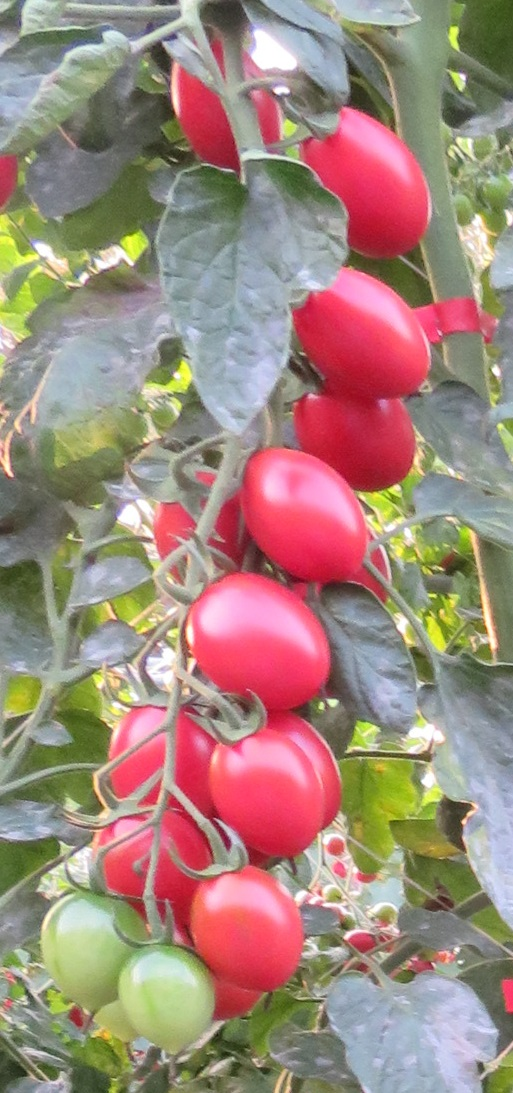green: (36, 888, 154, 1008), (115, 948, 222, 1062)
red: (304, 99, 441, 257), (182, 574, 336, 712), (295, 259, 442, 400), (239, 443, 382, 579), (168, 36, 285, 180), (206, 727, 324, 860), (196, 862, 304, 991), (292, 380, 423, 478), (113, 702, 212, 821), (152, 463, 247, 584)
